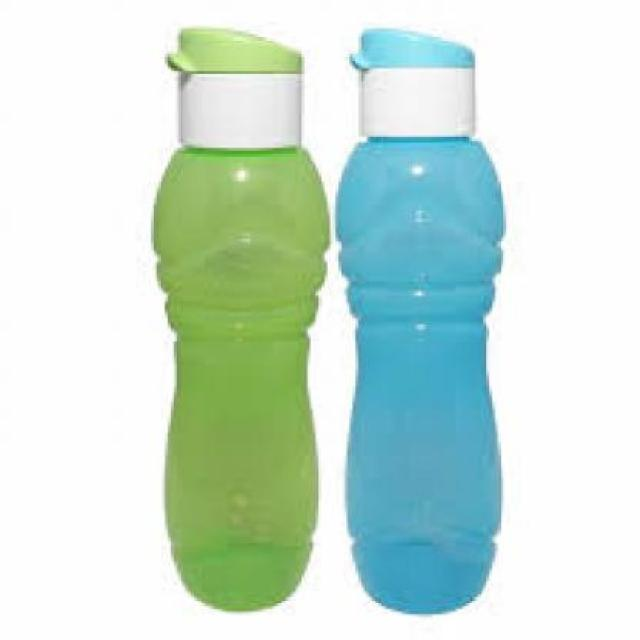Drinking: (336, 17, 521, 620), (147, 26, 330, 608)
